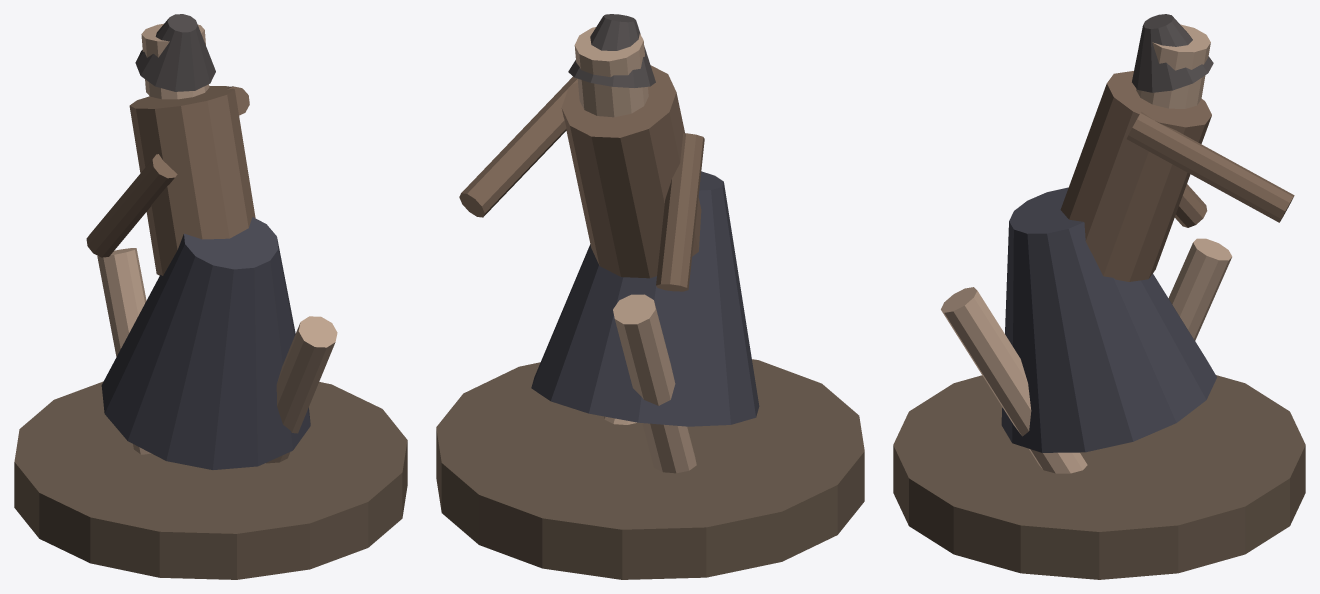
Rendered from chi_dau_phankhang.glb.
3 renders of one model, left to right at view 1: azimuth 30°, elevation 25°; view 2: azimuth 150°, elevation 25°; view 3: azimuth 270°, elevation 25°, orthographic. The views are drawn at different scales.
Parts seen in each view (by area): view 1: Chi_Dau_Phan_Khang; view 2: Chi_Dau_Phan_Khang; view 3: Chi_Dau_Phan_Khang.
Part boxes in pixels (x1,y1,x2,y2): Chi_Dau_Phan_Khang: [14, 14, 407, 579]; Chi_Dau_Phan_Khang: [436, 14, 864, 579]; Chi_Dau_Phan_Khang: [893, 14, 1305, 579].
Size of the model in its own units: 1.56 by 1.98 by 1.56.
